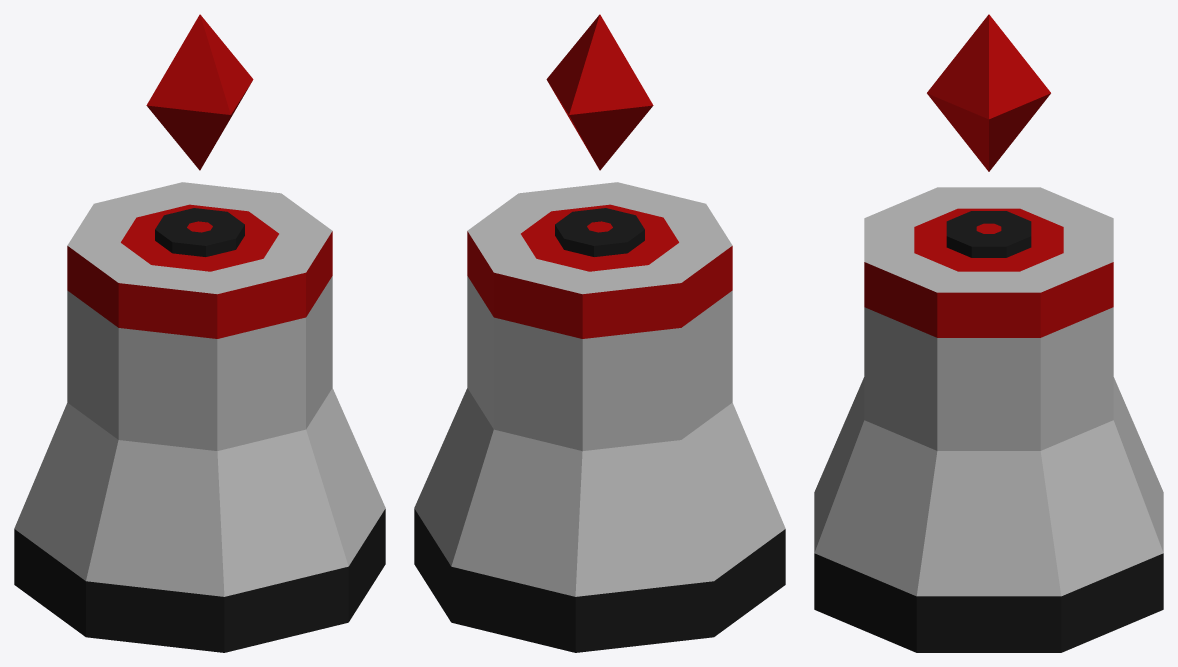
File: Mages_Fire.fbx
3 renders of one model, left to right at view 1: azimuth 30°, elevation 25°; view 2: azimuth 150°, elevation 25°; view 3: azimuth 270°, elevation 25°, orthographic.
Visible parts, largest first — view 1: Mages_Fire; view 2: Mages_Fire; view 3: Mages_Fire.
Boxes of the visible parts, <box> form: Mages_Fire: <box>14,14,385,652</box>; Mages_Fire: <box>414,14,785,652</box>; Mages_Fire: <box>814,14,1163,652</box>.
Size of the model in its own units: 140 by 250 by 140.
